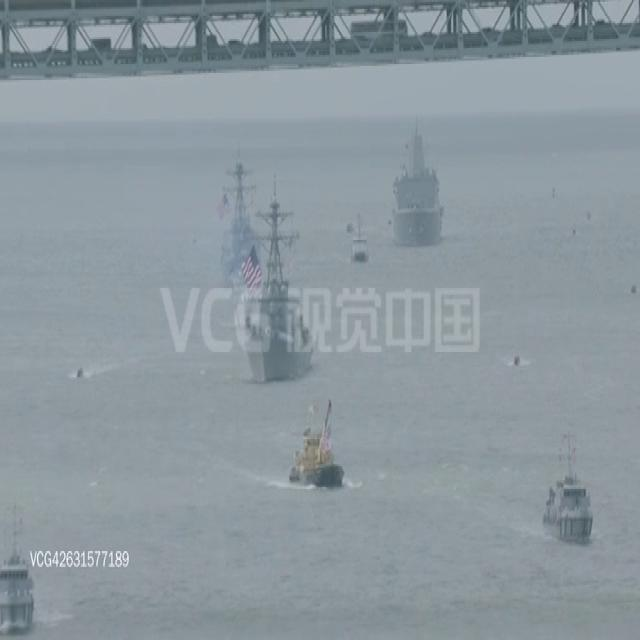houseboat: (534, 436, 595, 541), (287, 402, 345, 491), (0, 517, 36, 640), (345, 216, 369, 268), (513, 350, 521, 368), (76, 366, 84, 383)
navalvessels: (241, 187, 316, 386), (390, 134, 448, 248), (219, 152, 261, 287)
